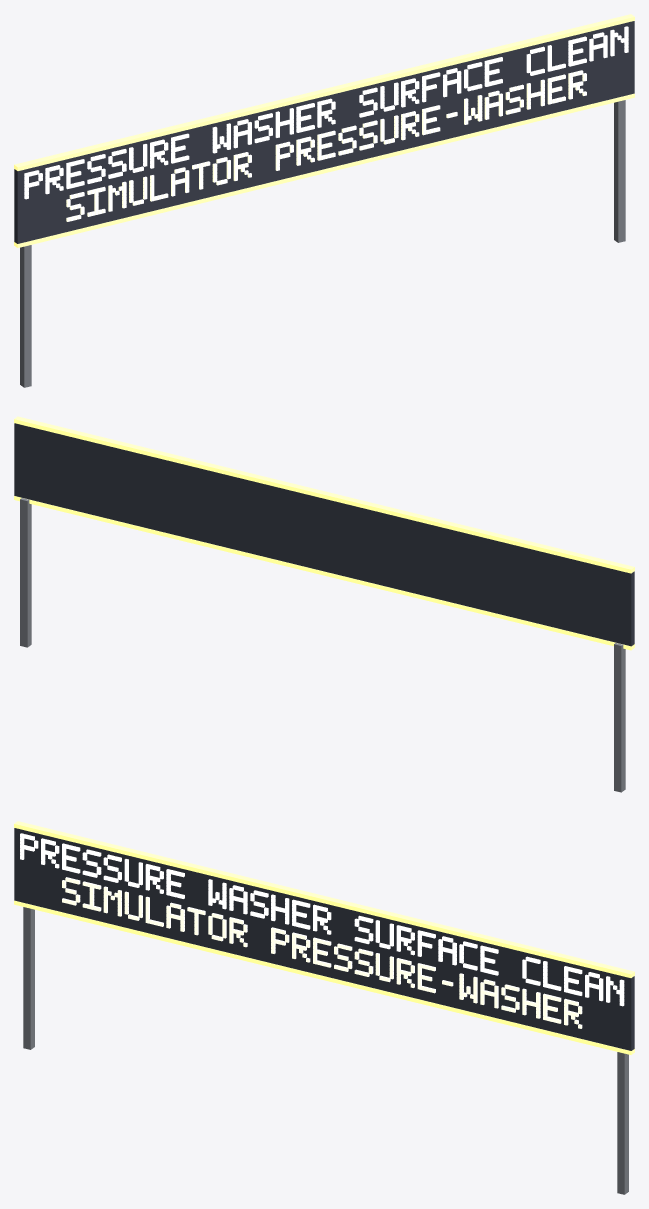
File: wing-sign-pressure-washer.glb
3 views of the same model, one above another, from view 1: azimuth 30°, elevation 25°; view 2: azimuth 150°, elevation 25°; view 3: azimuth 330°, elevation 25° (orthographic).
Parts seen in each view (by area): view 1: Sign · Pressure Washer Surface Clean; view 2: Sign · Pressure Washer Surface Clean; view 3: Sign · Pressure Washer Surface Clean.
Part boxes in pixels (x1,y1,x2,y2): Sign · Pressure Washer Surface Clean: (14, 14, 634, 387); Sign · Pressure Washer Surface Clean: (14, 416, 634, 792); Sign · Pressure Washer Surface Clean: (14, 821, 634, 1194).
Bounding box in the file's own units: 13.22 × 4.57 × 0.2448.
